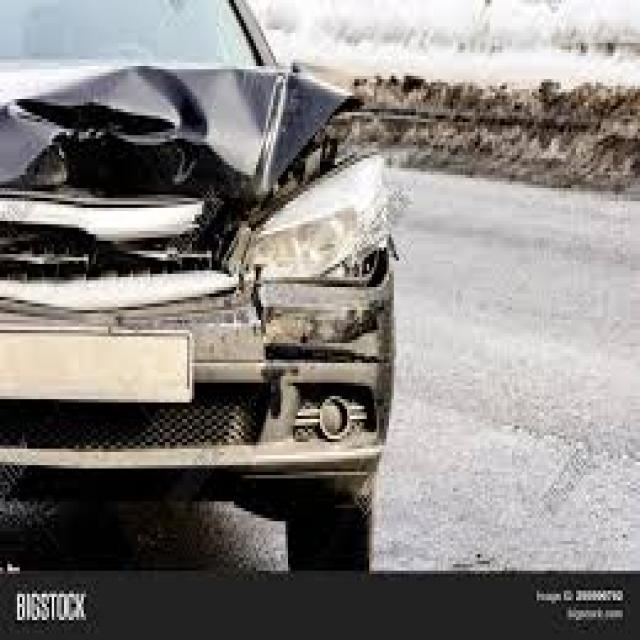damaged-head-light: (249, 162, 396, 276)
